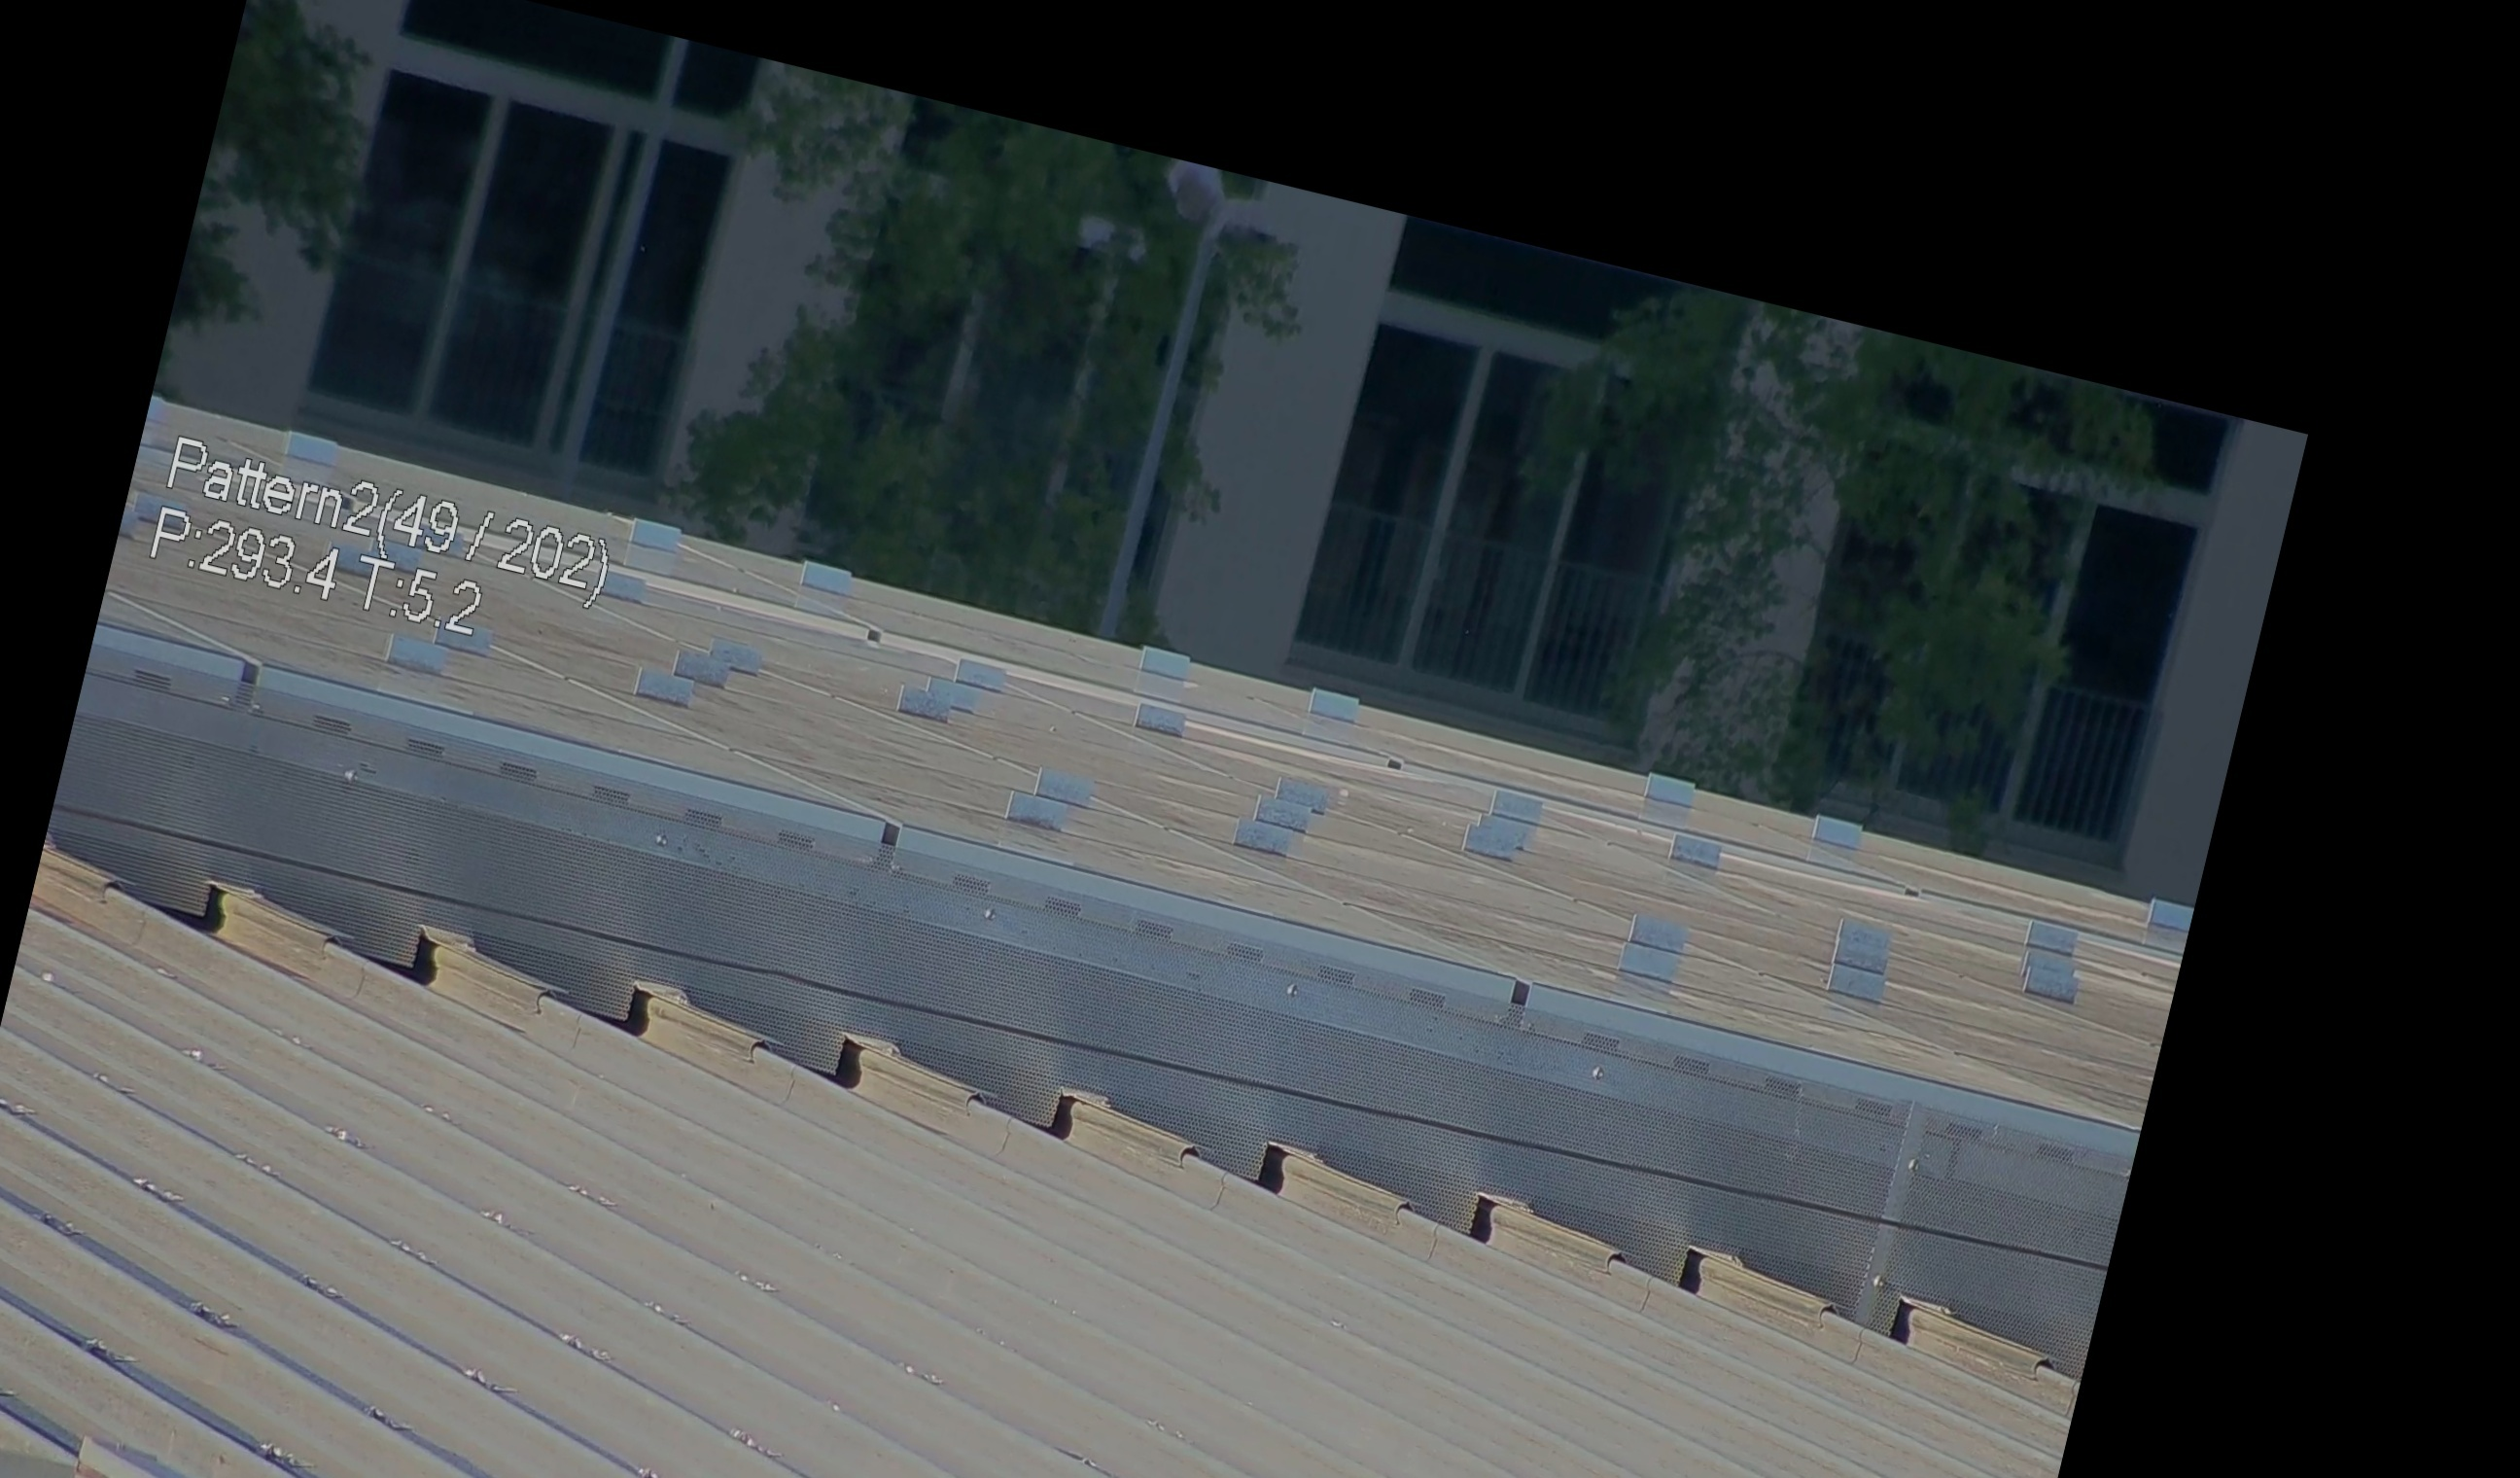Other: (371, 910, 443, 987)
